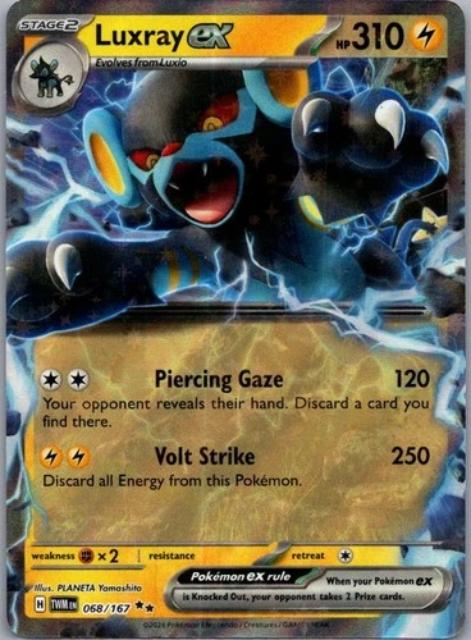Card: (0, 0, 470, 639)
Name: (90, 17, 241, 55)
